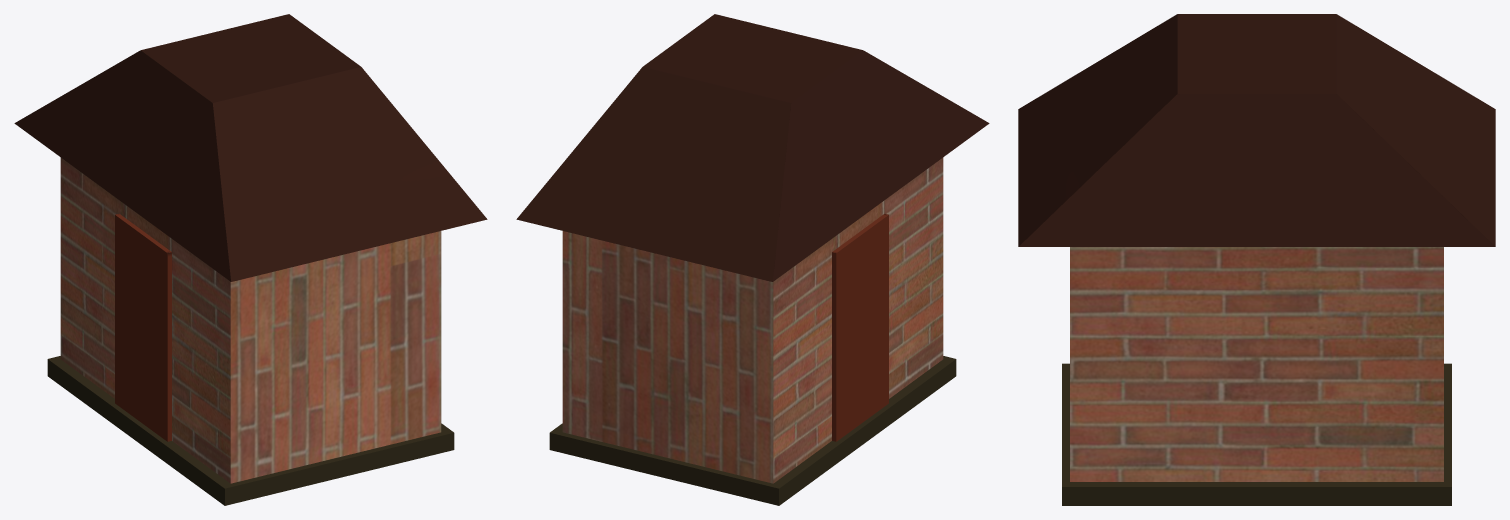
File: House.glb
3 views of the same model, side by side, from view 1: azimuth 30°, elevation 25°; view 2: azimuth 150°, elevation 25°; view 3: azimuth 270°, elevation 25° (orthographic). The views are drawn at different scales.
Visible parts, largest first — view 1: Cube.002, Cube, Cube.001, Cube.003; view 2: Cube.002, Cube, Cube.001, Cube.003; view 3: Cube.002, Cube, Cube.003.
Boxes of the visible parts, bbox=[...] form: Cube.002: bbox=[14, 14, 487, 281]; Cube: bbox=[60, 157, 441, 483]; Cube.001: bbox=[115, 213, 171, 441]; Cube.003: bbox=[47, 356, 454, 505]; Cube.002: bbox=[516, 14, 989, 281]; Cube: bbox=[562, 157, 943, 483]; Cube.001: bbox=[832, 213, 888, 441]; Cube.003: bbox=[549, 356, 956, 505]; Cube.002: bbox=[1018, 14, 1495, 246]; Cube: bbox=[1070, 247, 1443, 481]; Cube.003: bbox=[1062, 363, 1451, 505].
Bounding box in the file's own units: 4.85 × 6.44 × 7.11.
Materials: 4 (3 with a texture image).
